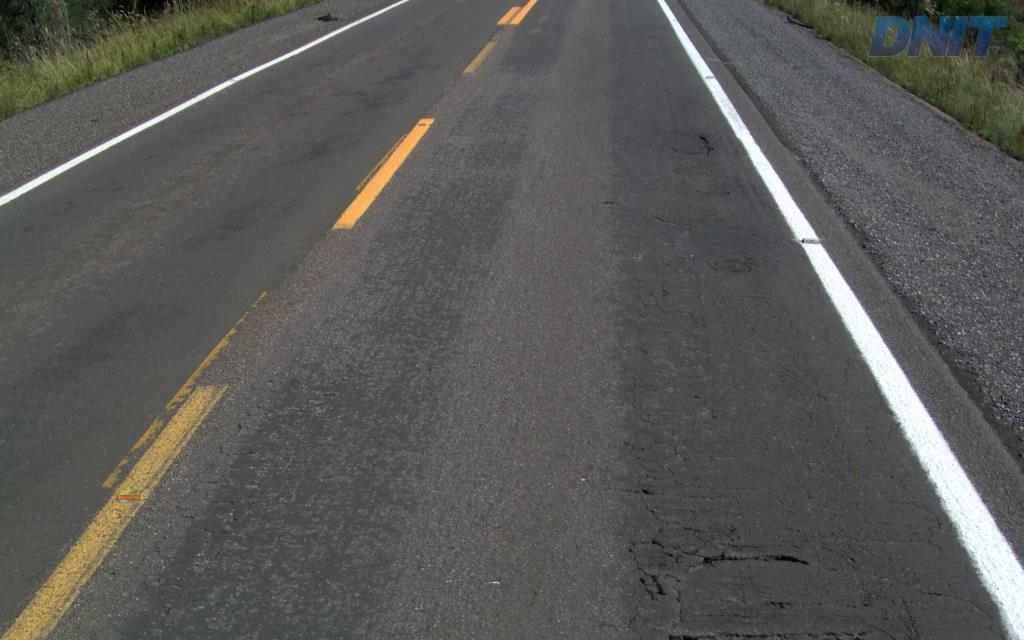crack: (663, 549, 759, 566)
